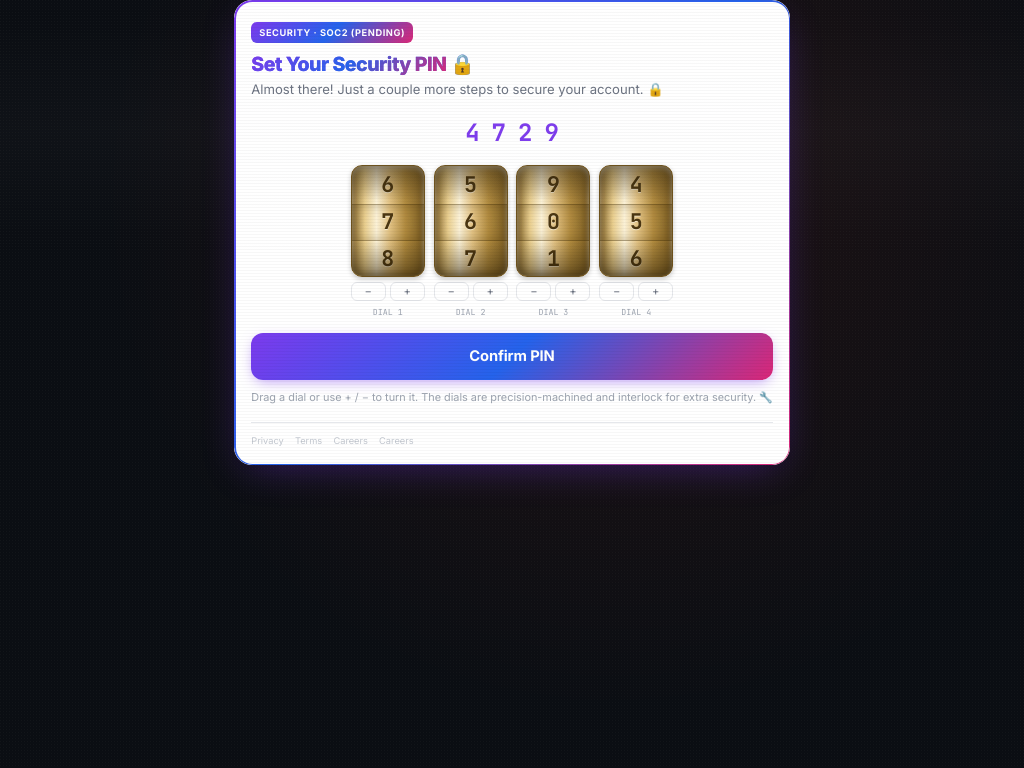
Scenario: L37 · Set Your Security PIN › re-seeds the dials on a wrong PIN
The image size is (1024, 768).
Click the button "Confirm PIN" at (512, 357), box [251,333,773,380]
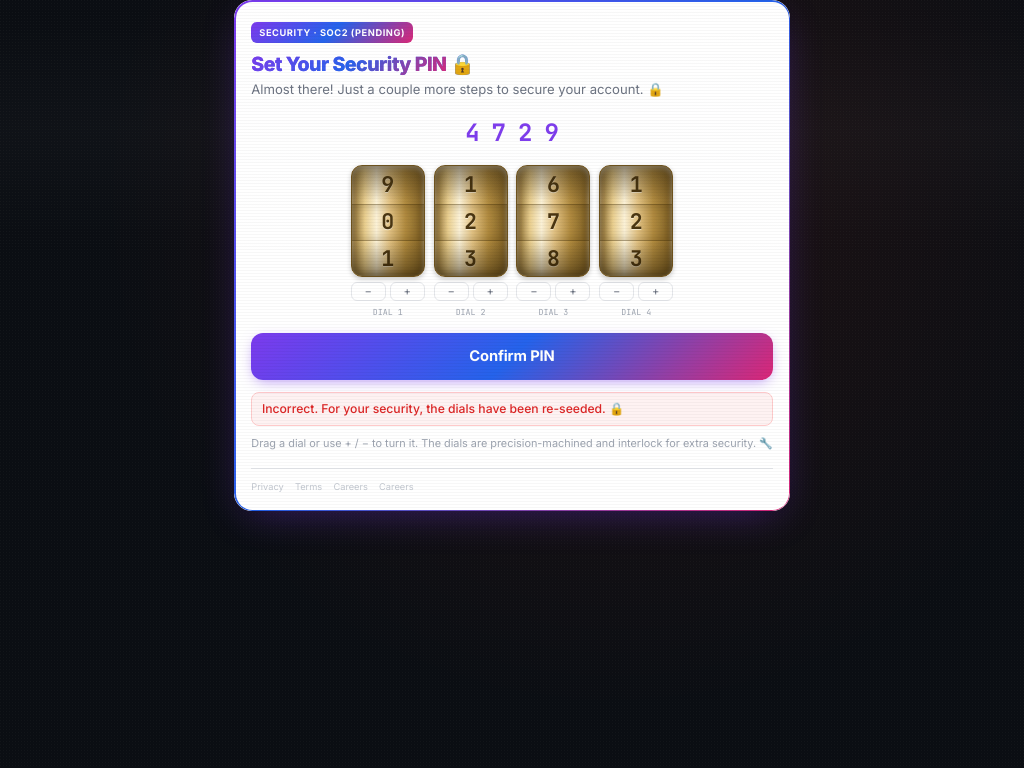
Expected: the text "re-seeded" is shown, [262,401,624,416]
